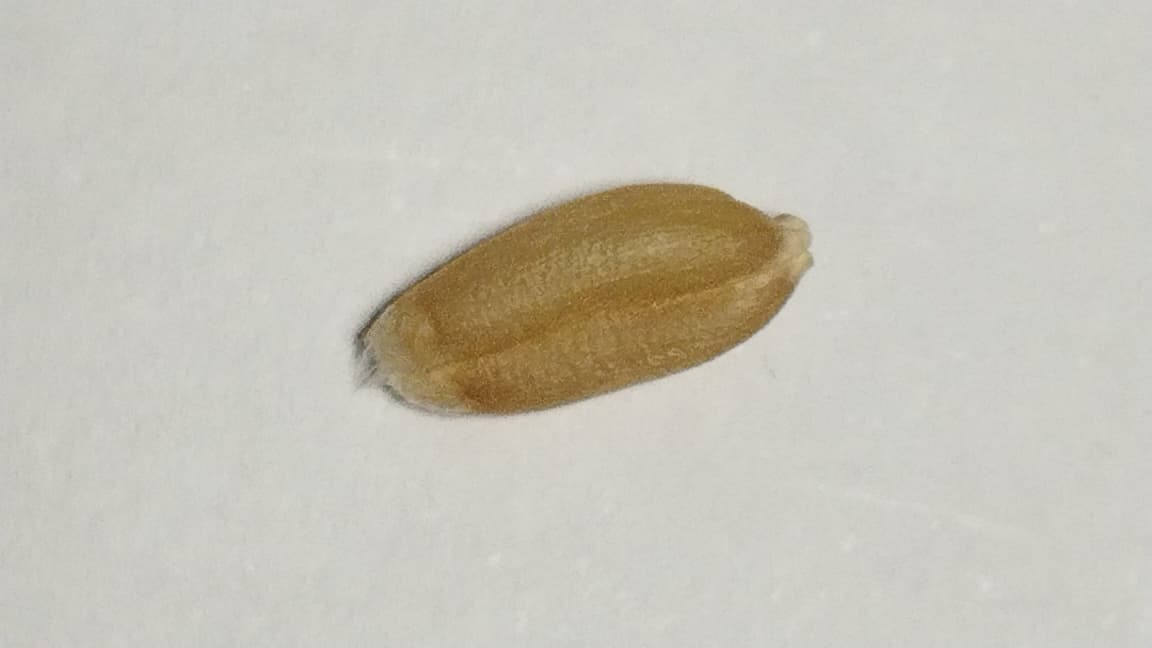healthy: (360, 183, 810, 410)
